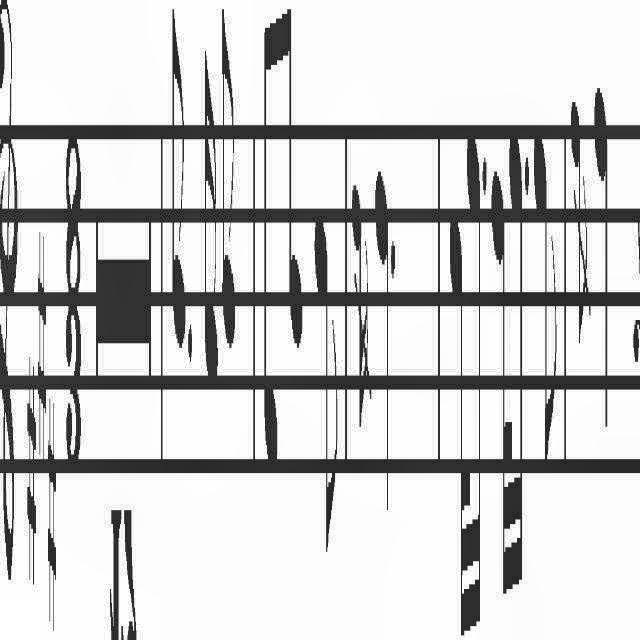Bass-clef: (1, 0, 20, 626)
Diez: (44, 419, 60, 617), (36, 228, 48, 488), (26, 357, 36, 577)
Eighth-note: (313, 155, 342, 598), (257, 0, 279, 520), (533, 123, 559, 484), (218, 0, 242, 376), (168, 1, 188, 372), (284, 0, 302, 390)
Eighth-rest: (631, 218, 640, 381), (639, 218, 640, 381)
Quarter-note: (590, 63, 612, 444), (374, 120, 391, 568)
Sixteenth-note: (200, 16, 220, 404), (511, 130, 524, 618), (468, 135, 480, 640)
